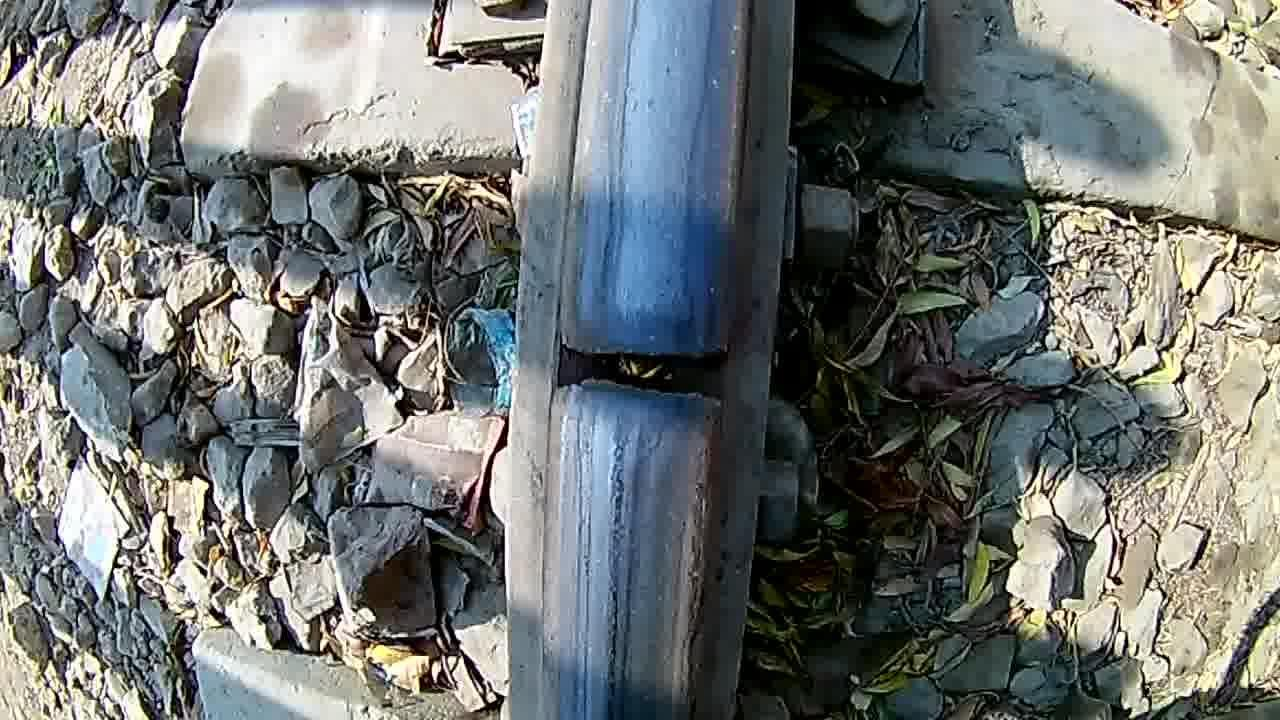crack: (546, 274, 750, 494)
